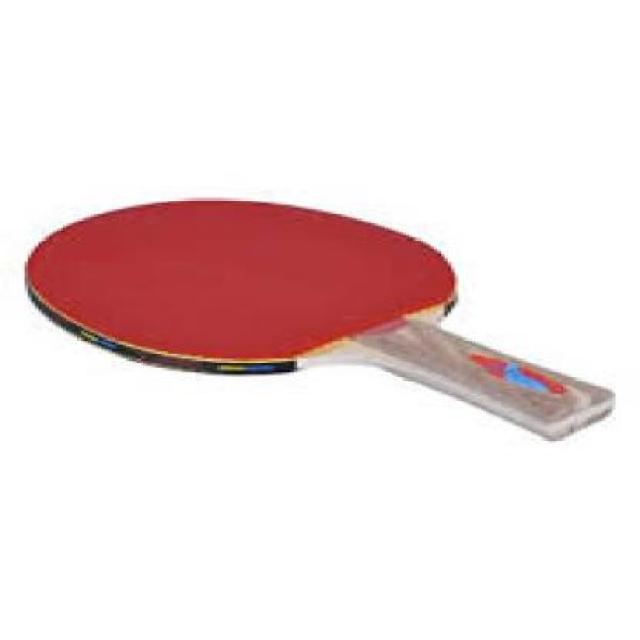table_tennis_racket: (22, 193, 467, 381)
